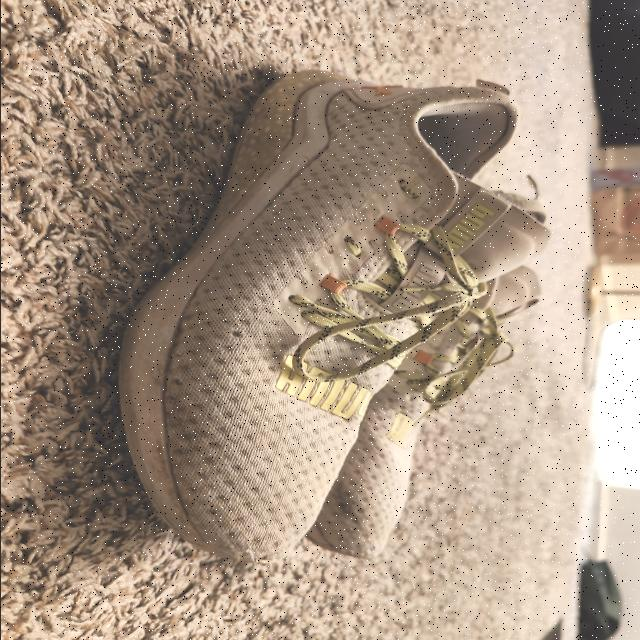white shoes: (114, 72, 526, 560)
